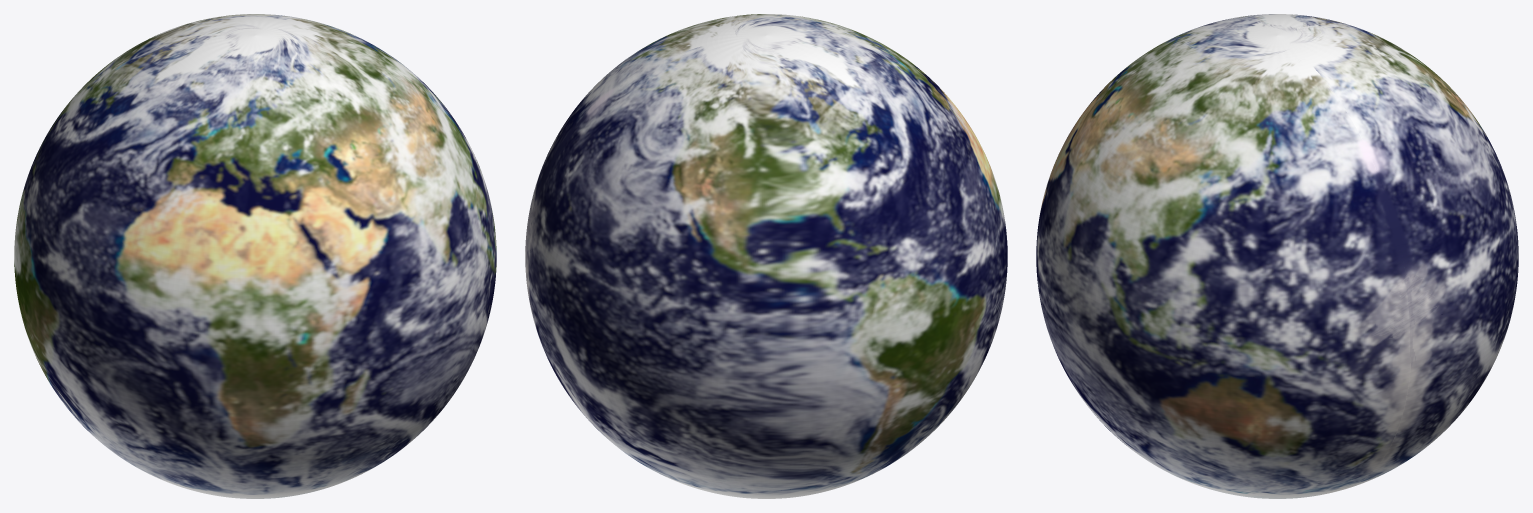
File: erath_Nsima.fbx
3 views of the same model, side by side, from view 1: azimuth 30°, elevation 25°; view 2: azimuth 150°, elevation 25°; view 3: azimuth 270°, elevation 25° (orthographic).
Parts seen in each view (by area): view 1: 球; view 2: 球; view 3: 球.
Part boxes in pixels (box(x1,y1,x2,y2)): 球: box(14, 14, 496, 498); 球: box(525, 14, 1007, 498); 球: box(1036, 14, 1518, 498).
Bounding box in the file's own units: 760 × 768 × 760.
